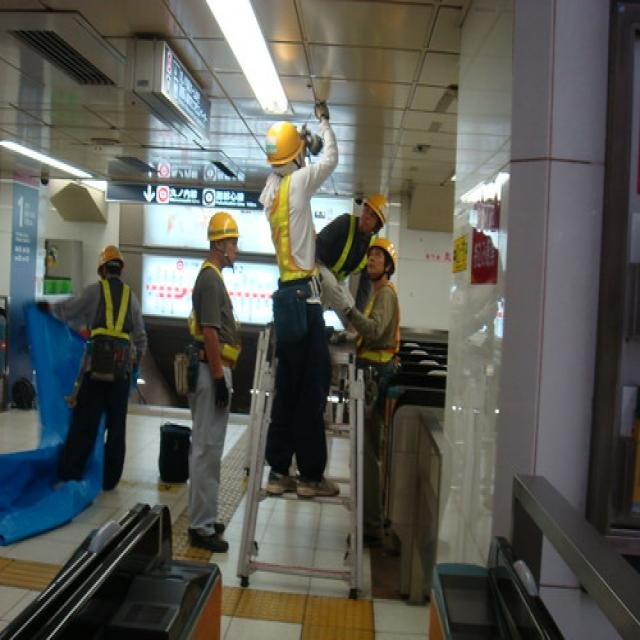Reflective-Jacket: (257, 169, 323, 299), (182, 256, 246, 375), (81, 276, 142, 382), (351, 278, 413, 382), (312, 207, 374, 295)
Safety-Helmet: (258, 116, 308, 171), (198, 205, 244, 251), (362, 232, 404, 278), (358, 186, 394, 230), (91, 239, 129, 275)
